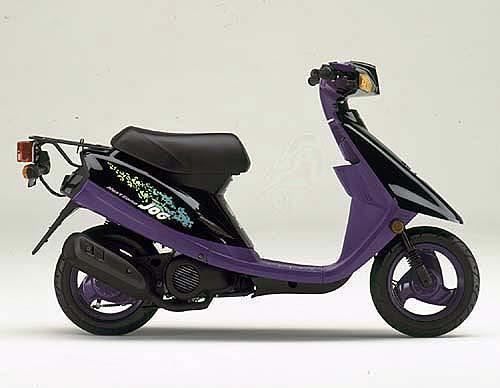motorcycle: (13, 53, 490, 349)
